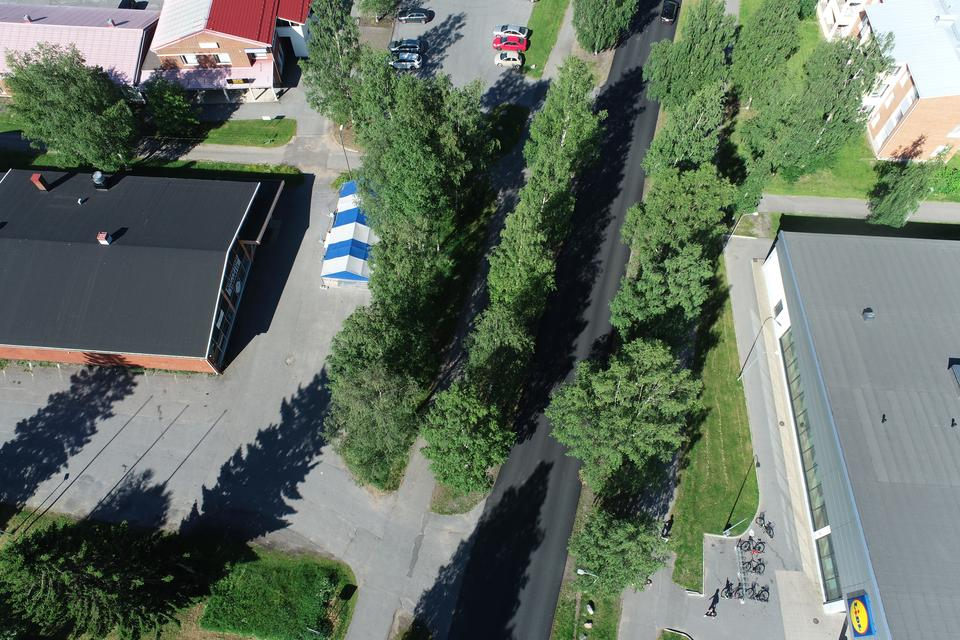intersection: (267, 429, 607, 640)
